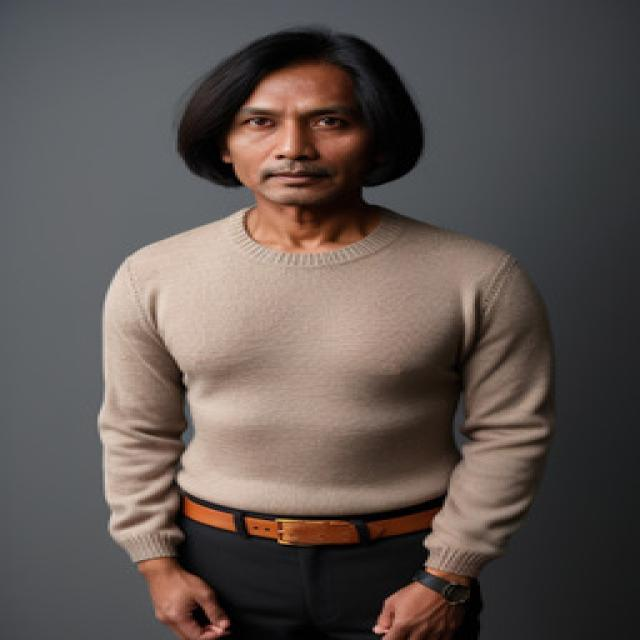Ai human 2: (82, 11, 565, 640)
